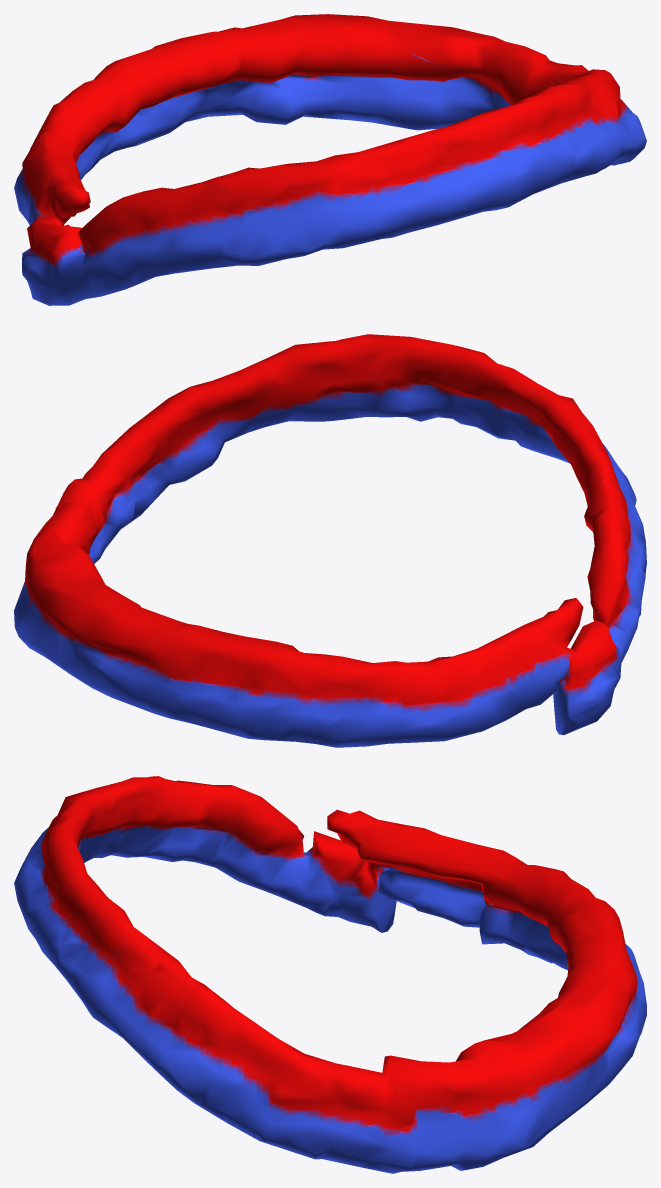
File: headband blue-red.glb
The picture shows the model from 3 angles, top to bottom: view 1: azimuth 30°, elevation 25°; view 2: azimuth 150°, elevation 25°; view 3: azimuth 270°, elevation 25°; orthographic projection. The views are drawn at different scales.
Visible parts, largest first — view 1: headband_blue_red.001; view 2: headband_blue_red.001; view 3: headband_blue_red.001.
Boxes of the visible parts, x1,y1,x2,y2 form: headband_blue_red.001: (14, 14, 646, 305); headband_blue_red.001: (14, 334, 646, 747); headband_blue_red.001: (14, 776, 646, 1173).
Size of the model in its own units: 0.3703 by 0.1373 by 0.3434.
Materials: 1 (1 with a texture image).
